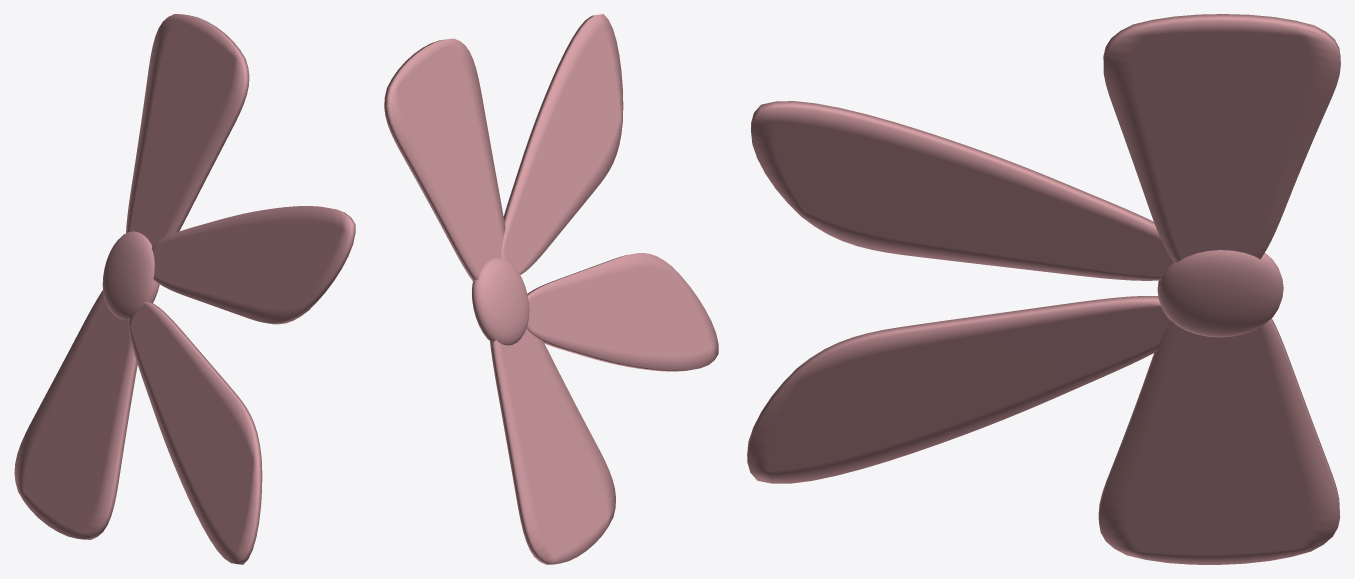
Rendered from pink-bow.glb.
The picture shows the model from 3 angles, left to right: view 1: azimuth 30°, elevation 25°; view 2: azimuth 150°, elevation 25°; view 3: azimuth 270°, elevation 25°; orthographic projection. The views are drawn at different scales.
Parts seen in each view (by area): view 1: Plane.002; view 2: Plane.002; view 3: Plane.002.
Part boxes in pixels (x1,y1,x2,y2): Plane.002: (14, 14, 355, 564); Plane.002: (384, 14, 718, 564); Plane.002: (747, 14, 1340, 564).
Size of the model in its own units: 3.26 by 8.43 by 6.86.
